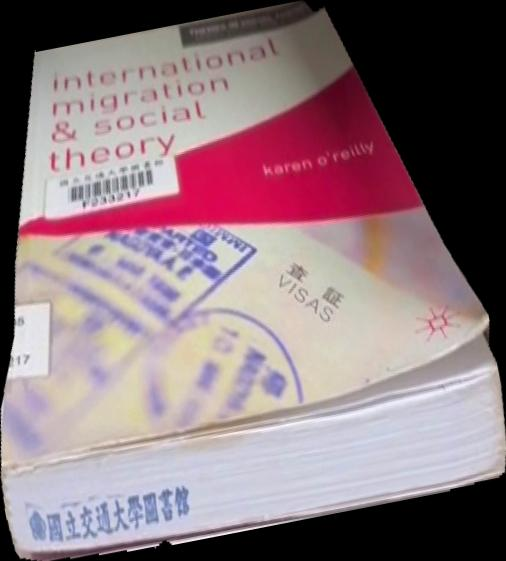flat: (1, 1, 506, 561)
